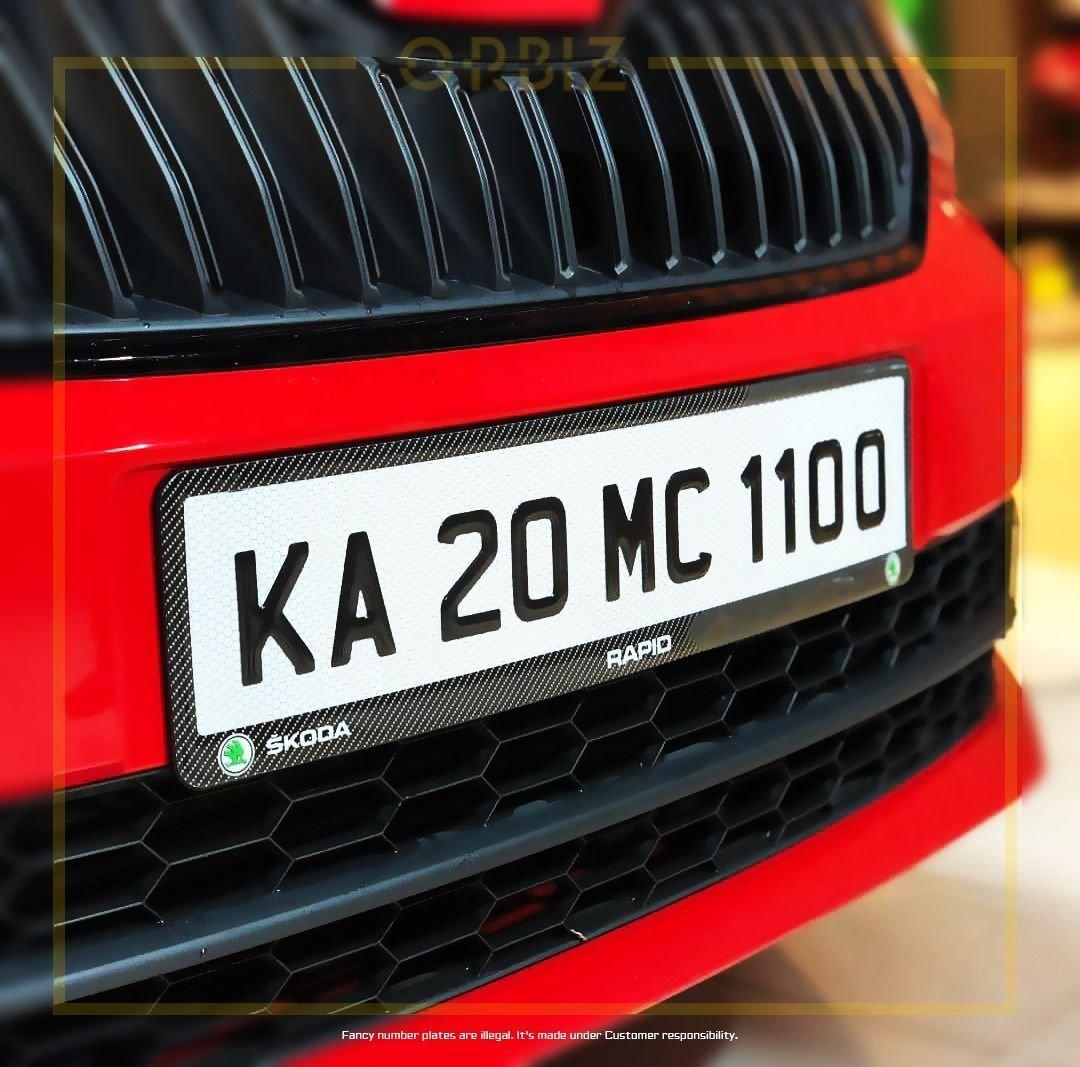Liscence Plate: (157, 418, 941, 666)
